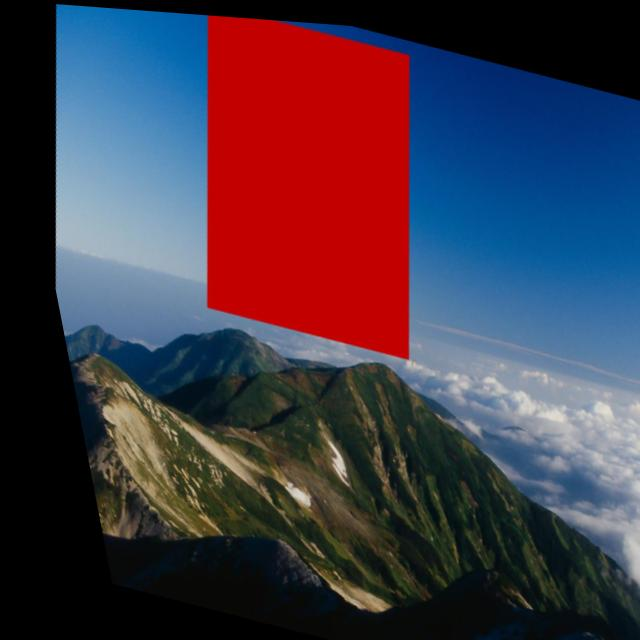RedSquare: (146, 9, 461, 364)
